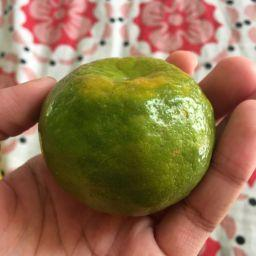Unripe: (41, 55, 217, 218)
